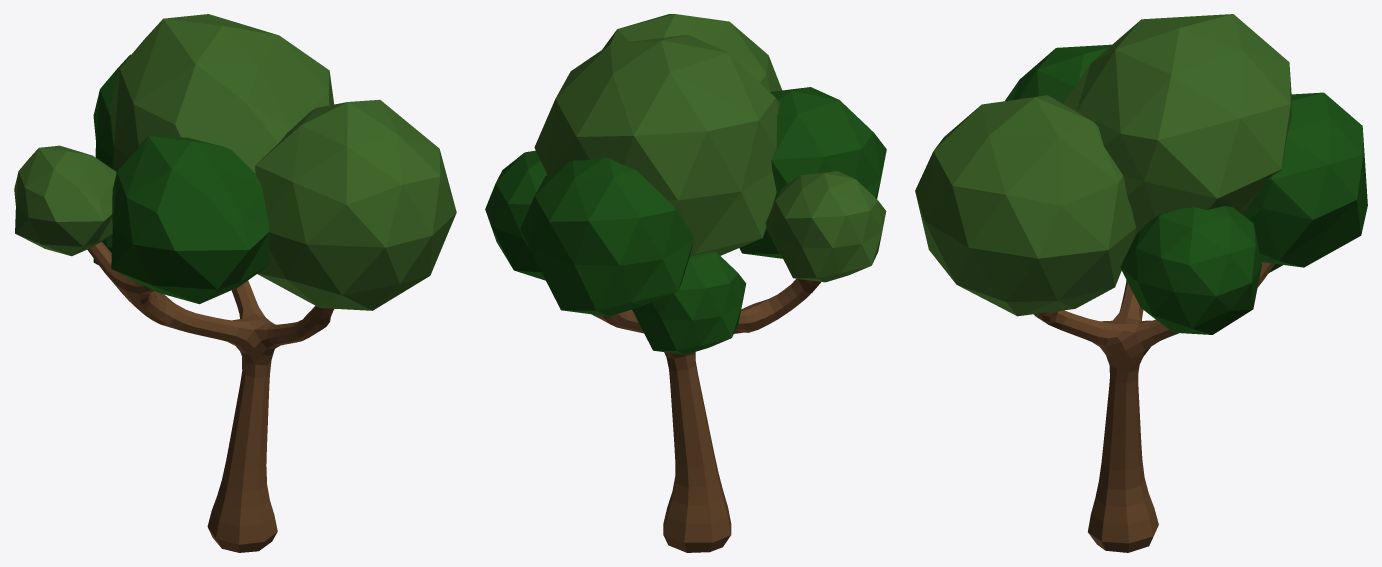
File: Tree.fbx
3 renders of one model, left to right at view 1: azimuth 30°, elevation 25°; view 2: azimuth 150°, elevation 25°; view 3: azimuth 270°, elevation 25°, orthographic. The views are drawn at different scales.
Visible parts, largest first — view 1: Tree; view 2: Tree; view 3: Tree.
Boxes of the visible parts, left/top/right/bottom form: Tree: left=14, top=14, right=456, bottom=552; Tree: left=485, top=14, right=886, bottom=552; Tree: left=915, top=14, right=1367, bottom=552.
Size of the model in its own units: 731 by 984 by 774.
